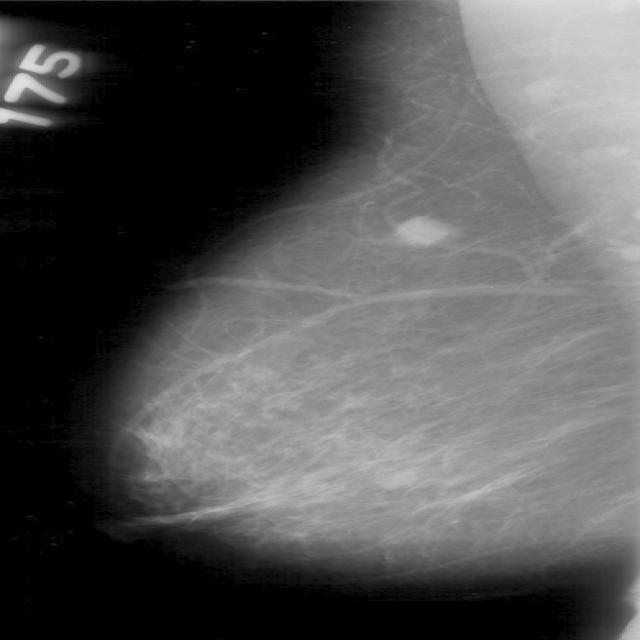tumour: (391, 213, 451, 246)
